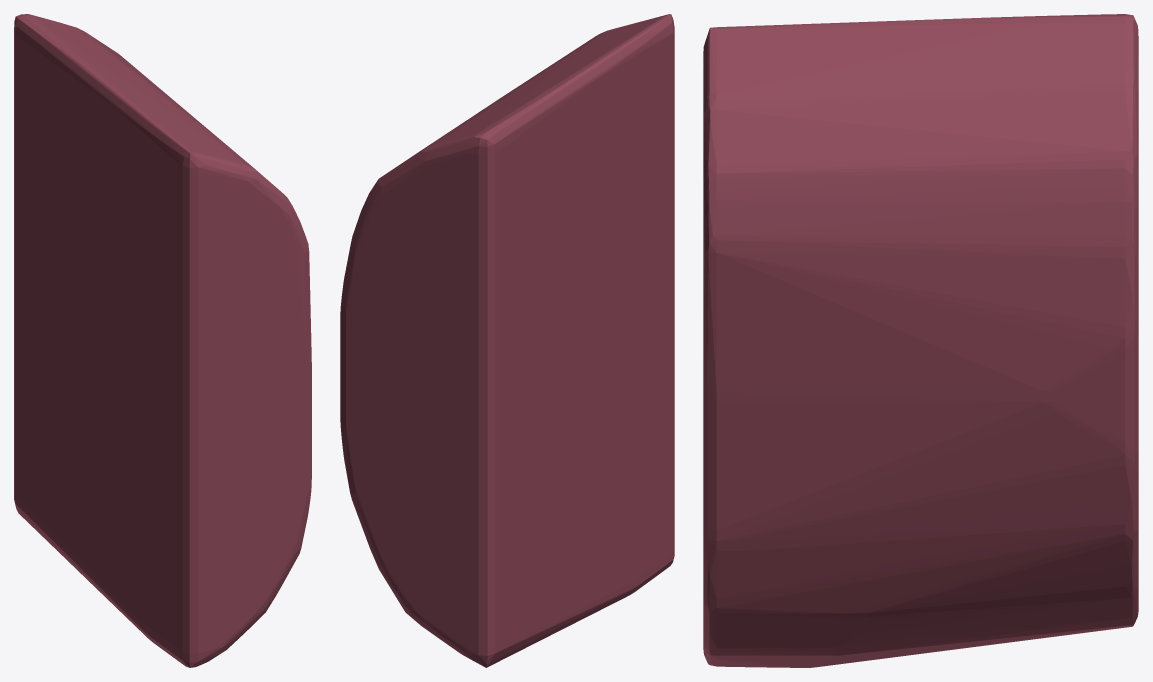
The model's file is right_f_middle_part_13.obj.
The picture shows the model from 3 angles, left to right: view 1: azimuth 30°, elevation 25°; view 2: azimuth 150°, elevation 25°; view 3: azimuth 270°, elevation 25°; orthographic projection. The views are drawn at different scales.
Bounding box in the file's own units: 4.8 × 16.8 × 10.29.
